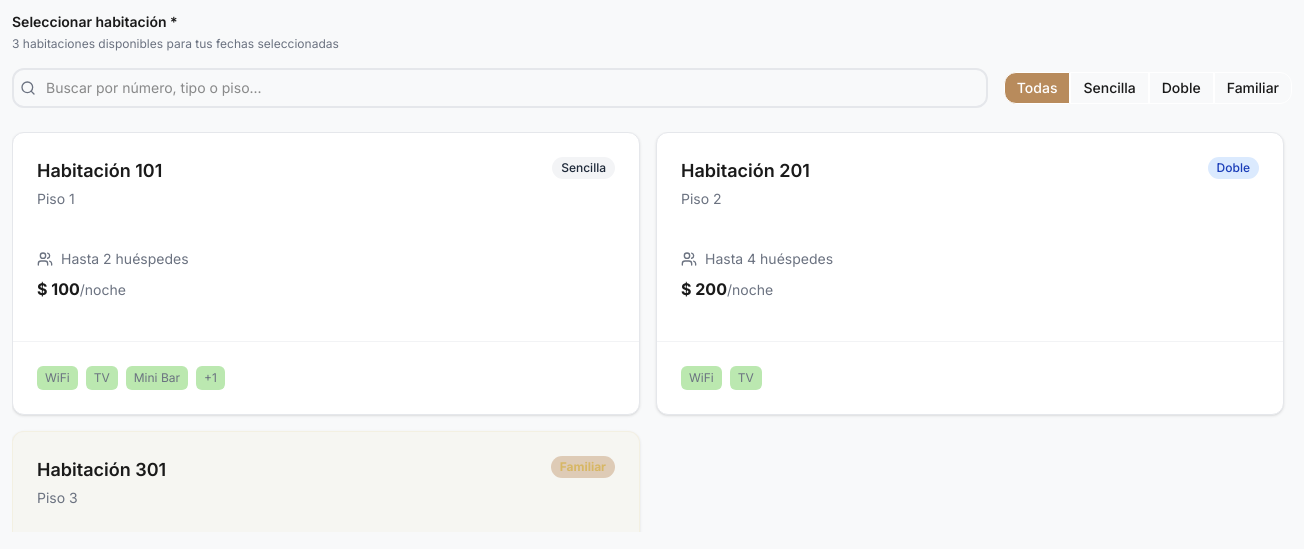
Test case: RoomSelector › filters rooms by search query
Type "101" into the field with placeholder "Buscar por número, tipo o piso...".
click(500, 88); type("101")  # box [12,68,988,108]
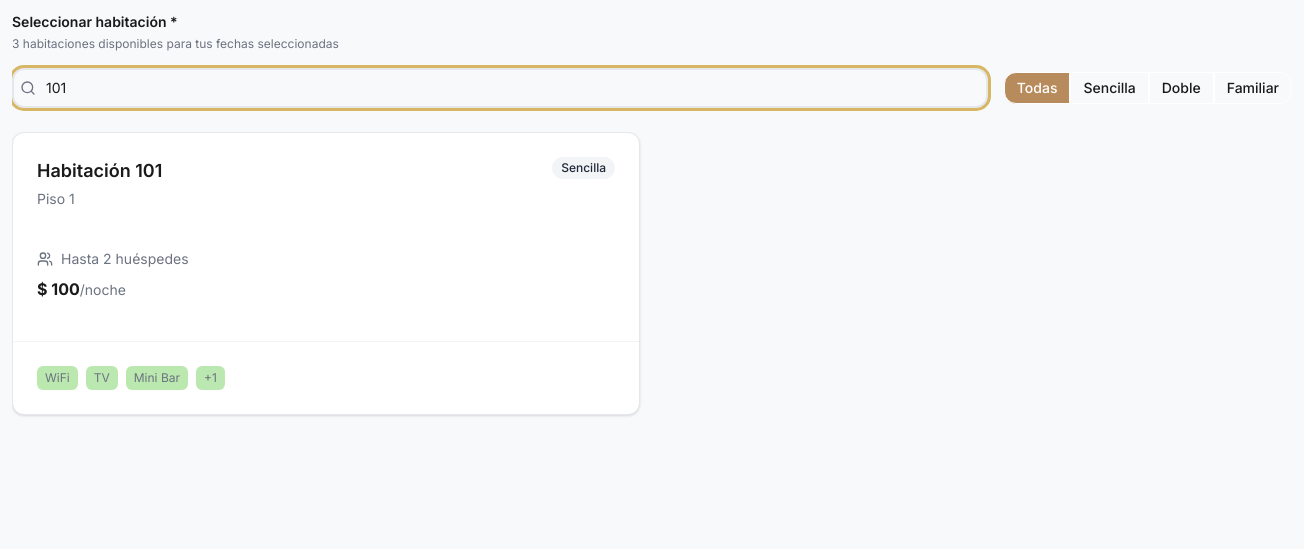
Expected: the text "Habitación 101" is shown, [37,157,162,185]
Result: the option "Habitación 201" is gone
Result: the option "Habitación 301" is gone
